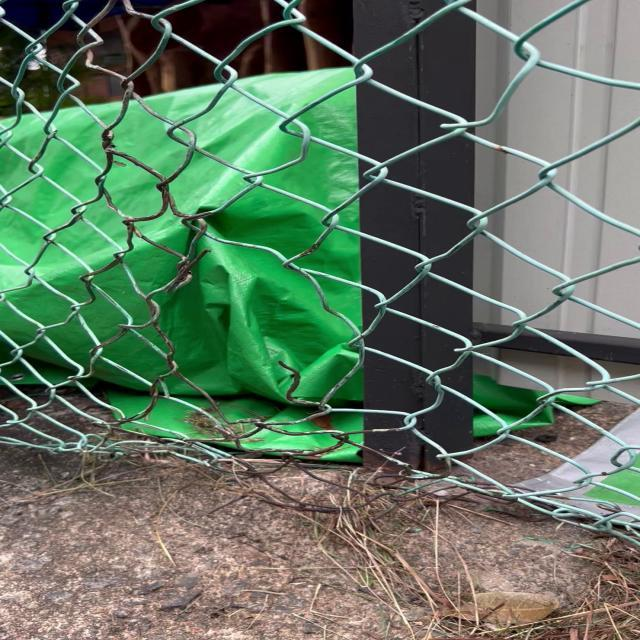fence line: (136, 234, 385, 434)
